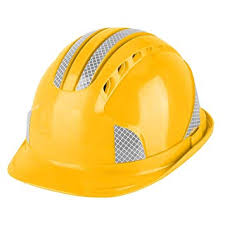helmet: (16, 26, 207, 197)
